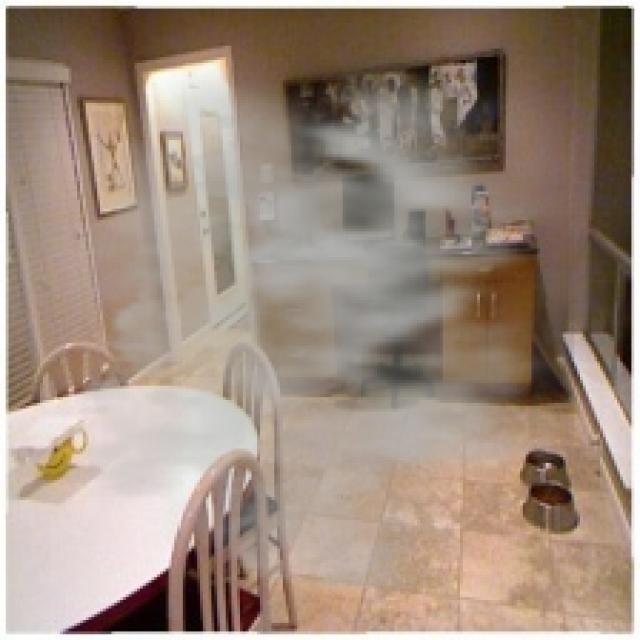smoke: (12, 34, 574, 589)
